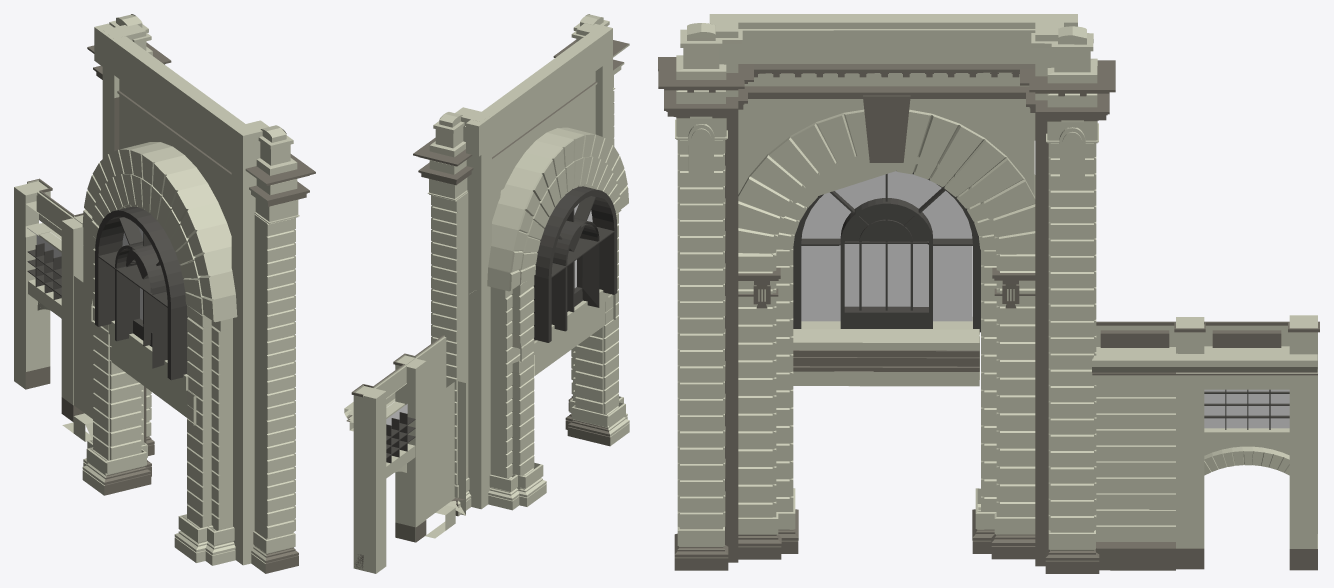
Rendered from Estacion de tren2.fbx.
The picture shows the model from 3 angles, left to right: view 1: azimuth 30°, elevation 25°; view 2: azimuth 150°, elevation 25°; view 3: azimuth 270°, elevation 25°; orthographic projection. The views are drawn at different scales.
Visible parts, largest first — view 1: Columna principal.005, Arco Estación.001, Marco ventana, Arco principal, Columna principal.009, Columna principal.006, Columna principal.017, Arco principal.001, Entre arco, Columna principal.020, Columna principal.003, Columna principal.007; view 2: Columna principal.020, Arco Estación.001, Columna principal.005, Marco ventana, Arco principal, Entre arco, Columna principal.006, Columna principal.001, Columna principal.009, Arco principal.001, Columna principal.003; view 3: Columna principal.005, Columna principal.020, Arco Estación.001, Entre arco, Arco principal, Plane, Columna principal.001, Columna principal.017, Marco ventana, Columna principal.003, Columna principal.006, Columna principal.009 (+6 smaller).
Boxes of the visible parts, x1,y1,x2,y2 form: Columna principal.005: (94,23,309,573); Arco Estación.001: (14,179,84,422); Marco ventana: (95,206,187,380); Arco principal: (82,142,237,322); Columna principal.009: (82,236,151,495); Columna principal.006: (174,305,213,562); Columna principal.017: (205,318,235,565); Arco principal.001: (91,173,204,315); Entre arco: (62,227,94,441); Columna principal.020: (87,14,171,455); Columna principal.003: (108,320,196,425); Columna principal.007: (246,154,315,185); Columna principal.020: (413,107,491,516); Arco Estación.001: (344,354,426,573); Columna principal.005: (464,14,629,410); Marco ventana: (534,186,617,342); Arco principal: (487,127,628,291); Entre arco: (414,335,465,538); Columna principal.006: (470,213,629,446); Columna principal.001: (488,287,520,510); Columna principal.009: (511,276,546,506); Arco principal.001: (519,156,621,285); Columna principal.003: (534,289,615,375); Columna principal.005: (664,14,1077,570); Columna principal.020: (1020,15,1115,573); Arco Estación.001: (1175,315,1317,570); Entre arco: (1092,321,1177,570); Arco principal: (738,109,1035,254); Plane: (801,171,972,321); Columna principal.001: (991,254,1035,559); Columna principal.017: (738,251,781,559); Marco ventana: (793,172,980,332); Columna principal.003: (793,317,979,386); Columna principal.006: (771,249,798,553); Columna principal.009: (972,250,996,553).
Bounding box in the file's own units: 5.74 × 24.71 × 27.69.
